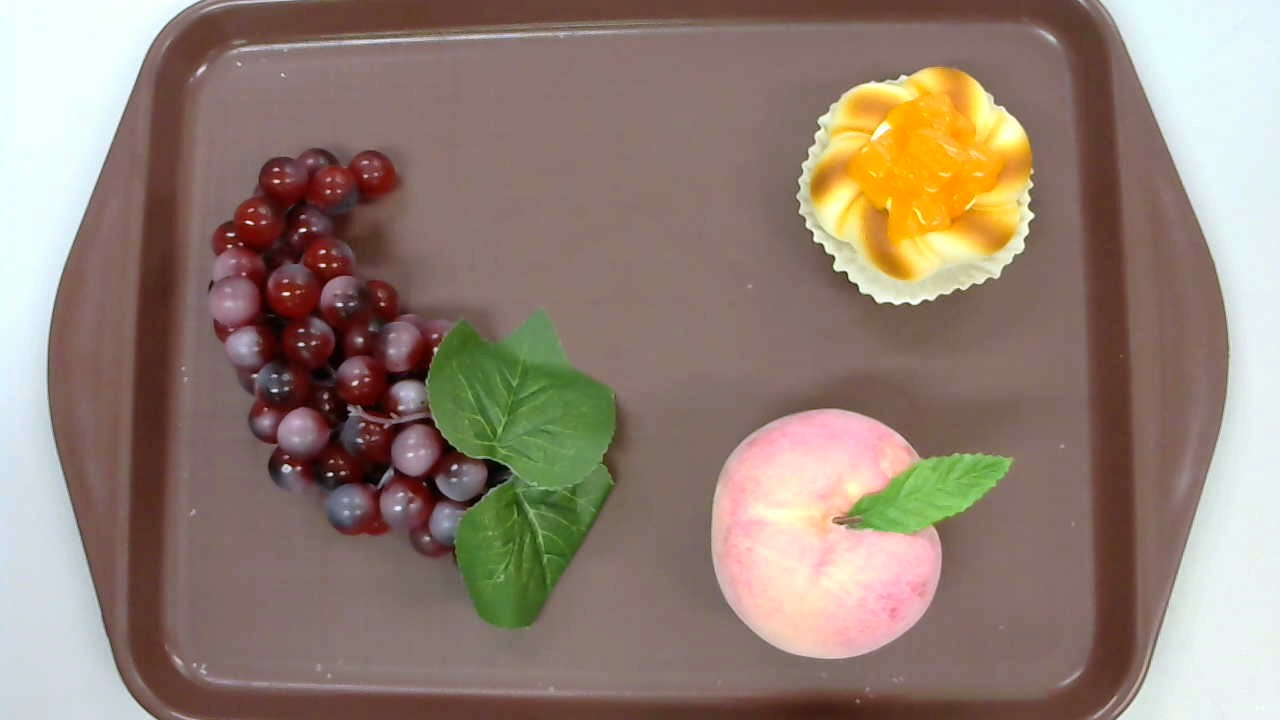grape: (208, 147, 620, 632)
mango tart: (796, 64, 1035, 308)
peach: (710, 408, 1016, 658)
